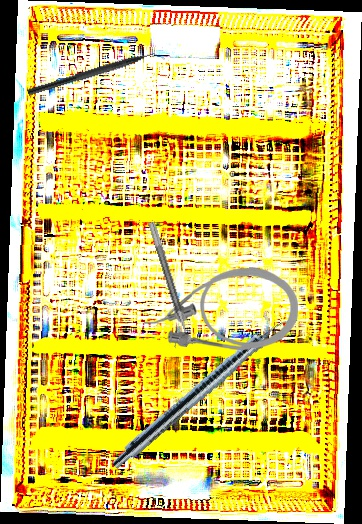Cannula: (143, 266, 299, 352)
Chopper: (26, 45, 167, 106)
Fixation Ring: (137, 221, 194, 350)
Handpiece: (107, 305, 300, 476)
